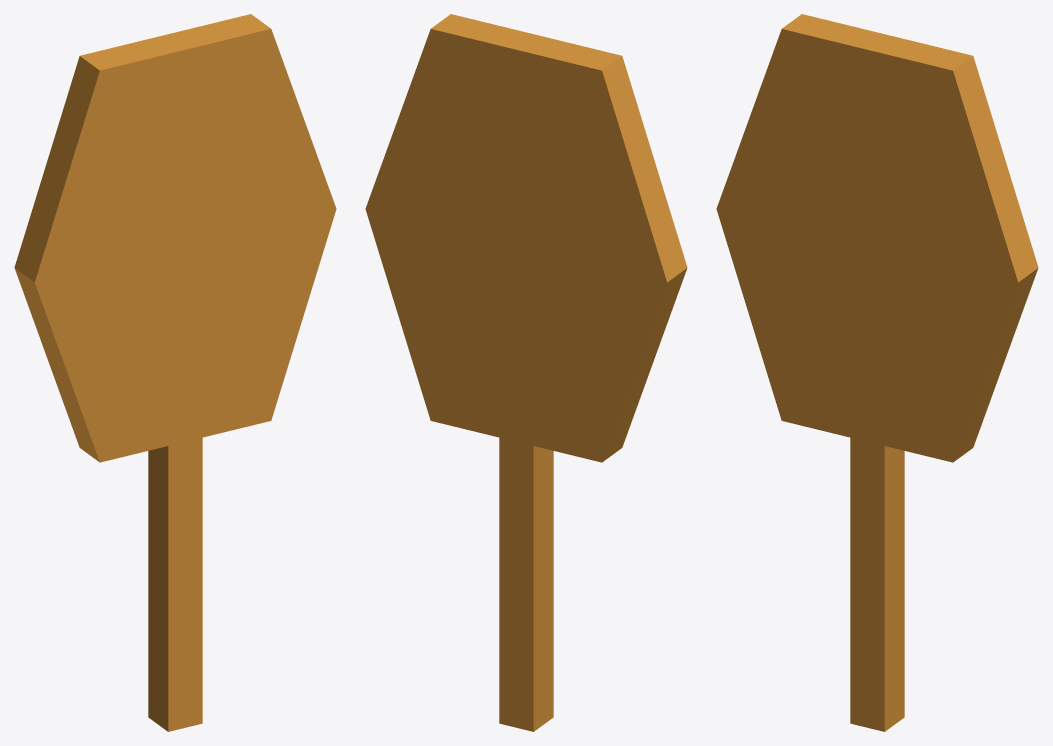
The model's file is Cible.glb.
3 renders of one model, left to right at view 1: azimuth 30°, elevation 25°; view 2: azimuth 150°, elevation 25°; view 3: azimuth 330°, elevation 25°, orthographic.
Parts seen in each view (by area): view 1: Cibles; view 2: Cibles; view 3: Cibles.
Boxes of the visible parts, left/top/right/bottom form: Cibles: left=14, top=14, right=336, bottom=731; Cibles: left=365, top=14, right=687, bottom=731; Cibles: left=716, top=14, right=1038, bottom=731.
Size of the model in its own units: 0.1261 by 0.2708 by 0.0147.
1 material, 1 textured.
